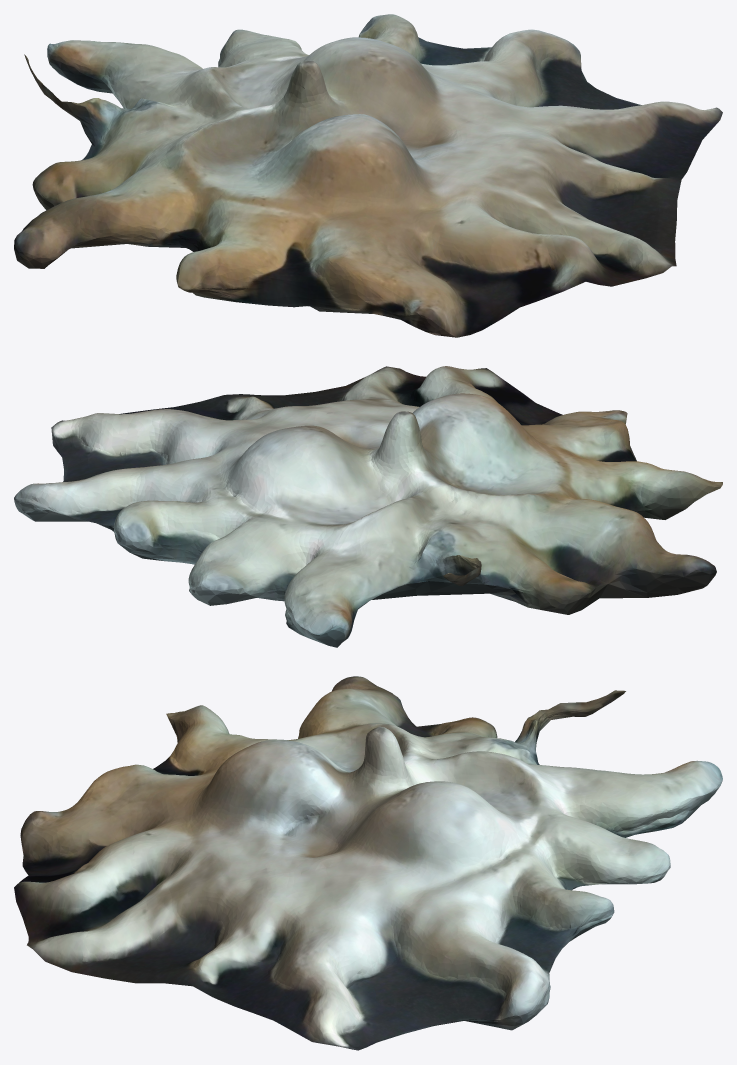
Rendered from soleil.glb.
The picture shows the model from 3 angles, top to bottom: view 1: azimuth 30°, elevation 25°; view 2: azimuth 150°, elevation 25°; view 3: azimuth 270°, elevation 25°; orthographic projection. The views are drawn at different scales.
Size of the model in its own units: 0.721 by 0.1395 by 0.6309.
Materials: 1 (1 with a texture image).
